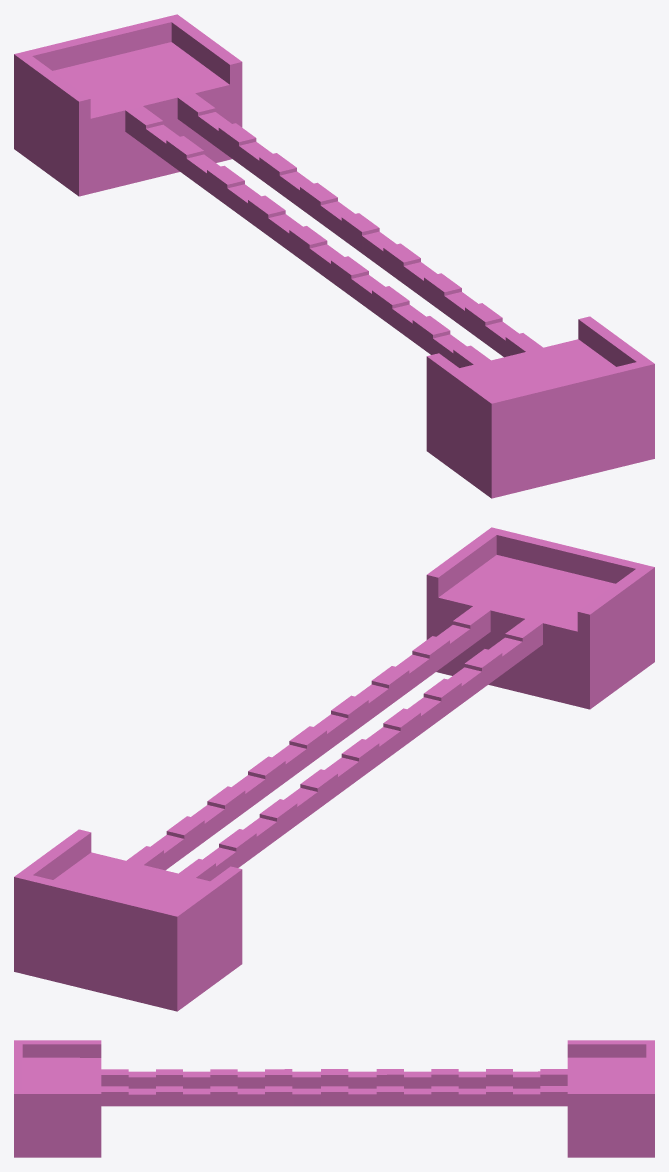
The model's file is Bridge.glb.
3 views of the same model, one above another, from view 1: azimuth 30°, elevation 25°; view 2: azimuth 150°, elevation 25°; view 3: azimuth 270°, elevation 25° (orthographic). The views are drawn at different scales.
Visible parts, largest first — view 1: Bridge; view 2: Bridge; view 3: Bridge.
Part boxes in pixels (x1,y1,x2,y2): Bridge: [14, 14, 654, 498]; Bridge: [14, 527, 654, 1011]; Bridge: [14, 1040, 654, 1157].
Bounding box in the file's own units: 18.95 × 10.52 × 95.96.
